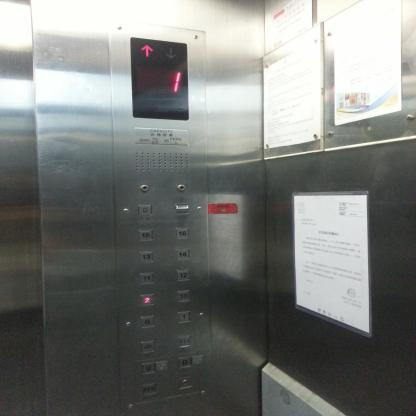10: (176, 289, 191, 302)
11: (138, 272, 154, 285), (176, 310, 191, 323)
12: (176, 269, 191, 281)
13: (139, 251, 153, 263)
14: (176, 248, 190, 261)
15: (138, 229, 153, 242)
16: (175, 227, 189, 240)
2: (139, 294, 154, 306)
D: (178, 356, 192, 368)
G: (140, 316, 154, 328)
U: (141, 362, 156, 374)
alarm: (137, 204, 152, 216)
blur: (141, 382, 156, 395), (176, 204, 188, 214)
close: (178, 334, 192, 348)
indicator: (138, 182, 150, 193), (176, 182, 186, 192)
keyhole: (178, 377, 193, 389)
led: (130, 37, 189, 121)
open: (141, 340, 155, 354)
